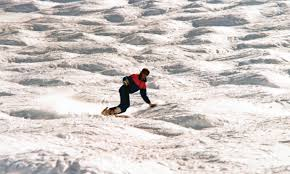snowboarder: (92, 62, 167, 122)
